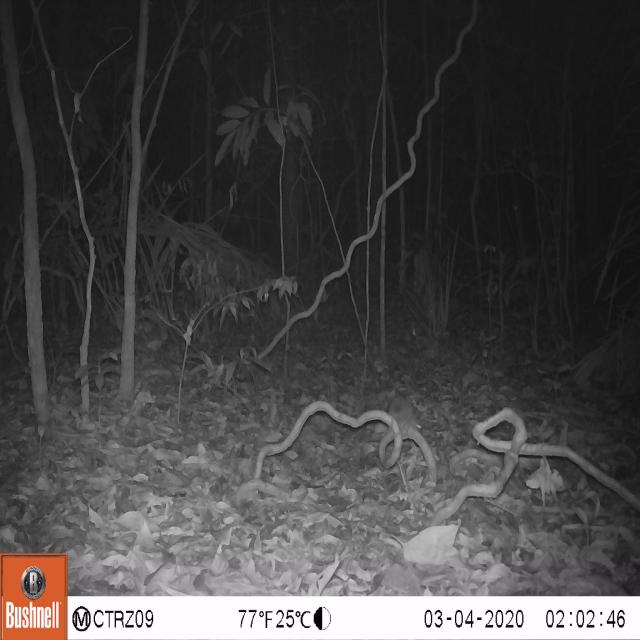Rodent: (376, 374, 429, 460)
